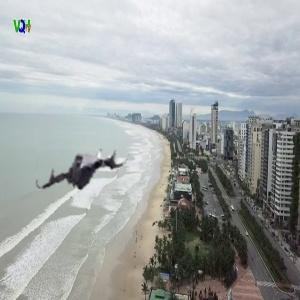drone: (36, 128, 129, 221)
